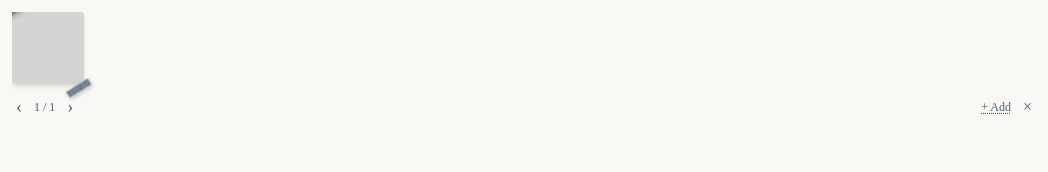
Test: PhotoWidget › delete photo › falls back to the empty state when the only photo is deleted
The image size is (1048, 172).
Click the button named "Delete photo".
click(1028, 107)  # box [1019, 99, 1036, 115]
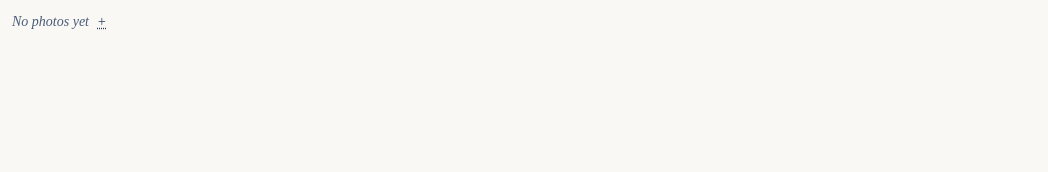
Now the text "No photos yet" is shown, box [12, 12, 89, 32]
